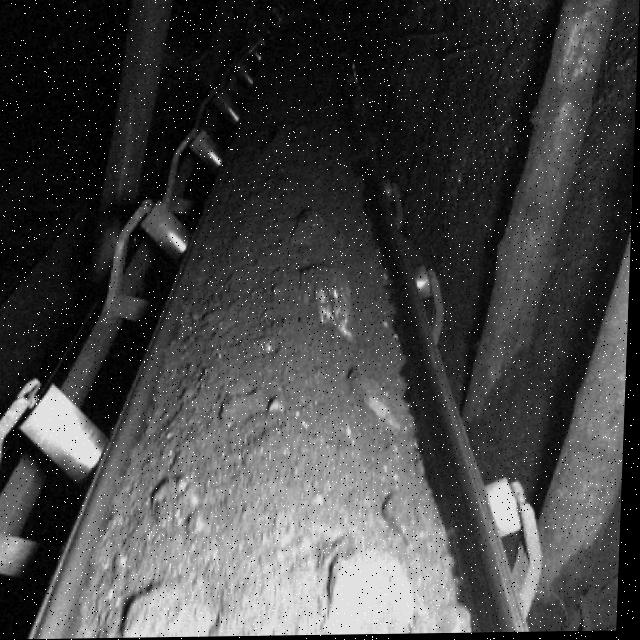large_sized_coal: (330, 556, 428, 636), (128, 576, 227, 638), (348, 367, 414, 434), (300, 267, 359, 336)
